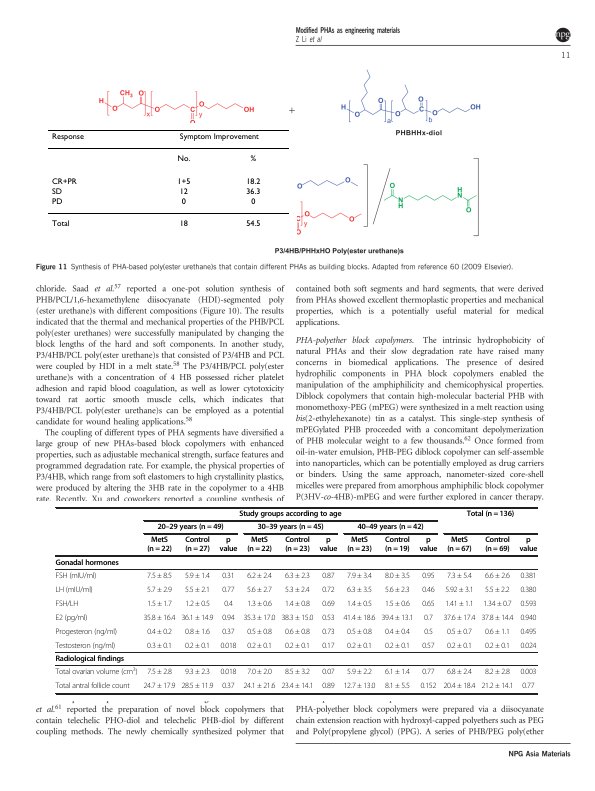borderless: (54, 506, 537, 693), (46, 128, 290, 237)
cell: (238, 510, 342, 519), (55, 666, 138, 677), (178, 133, 259, 142), (256, 523, 325, 533), (55, 682, 131, 691), (156, 523, 224, 533), (356, 523, 424, 533), (55, 558, 120, 568), (55, 627, 118, 637), (55, 655, 125, 664), (55, 641, 116, 651), (146, 536, 173, 555), (184, 536, 211, 555), (246, 536, 273, 555), (284, 536, 311, 555), (346, 536, 373, 555), (384, 536, 411, 555), (446, 536, 473, 555), (484, 536, 511, 555), (466, 510, 515, 519), (55, 571, 97, 581), (55, 585, 94, 595), (318, 536, 338, 555), (418, 536, 438, 555), (518, 536, 538, 555), (219, 536, 238, 555), (142, 613, 176, 623), (180, 613, 214, 623), (242, 613, 276, 623), (280, 613, 314, 623), (342, 613, 376, 623), (380, 613, 414, 623), (442, 613, 476, 623), (480, 613, 514, 623), (55, 613, 88, 623), (444, 599, 475, 609), (482, 599, 513, 609), (50, 133, 84, 142), (142, 682, 176, 691), (180, 682, 214, 691), (242, 682, 276, 691), (280, 682, 314, 691), (342, 682, 376, 691), (442, 682, 476, 691), (480, 682, 514, 691), (444, 585, 474, 595), (50, 177, 77, 187), (146, 571, 173, 581), (184, 571, 211, 581), (246, 571, 273, 581), (284, 571, 311, 581), (346, 571, 373, 581), (384, 571, 411, 581), (446, 571, 473, 581), (484, 571, 511, 581), (146, 585, 173, 595), (184, 585, 211, 595), (246, 585, 273, 595), (284, 585, 311, 595), (346, 585, 373, 595), (384, 585, 411, 595), (484, 585, 511, 595), (146, 599, 173, 609), (184, 599, 211, 609), (246, 599, 273, 609), (284, 599, 311, 609), (346, 599, 373, 609), (384, 599, 411, 609), (146, 627, 173, 637), (184, 627, 211, 637), (246, 627, 273, 637), (284, 627, 311, 637), (346, 627, 373, 637), (384, 627, 411, 637), (446, 627, 473, 637), (484, 627, 511, 637), (146, 641, 173, 651), (184, 641, 211, 651), (246, 641, 273, 651), (284, 641, 311, 651), (346, 641, 373, 651), (384, 641, 411, 651), (446, 641, 473, 651), (484, 641, 511, 651), (146, 668, 173, 677), (184, 668, 211, 677), (246, 668, 273, 677), (284, 668, 311, 677), (346, 668, 373, 677), (384, 668, 411, 677), (446, 668, 473, 677), (484, 668, 511, 677), (384, 682, 411, 691), (55, 599, 79, 609), (50, 220, 70, 229), (519, 571, 537, 581), (519, 585, 537, 595), (519, 599, 537, 609), (519, 613, 537, 623), (519, 627, 537, 637), (219, 641, 237, 651), (519, 641, 537, 651), (219, 668, 237, 677), (519, 668, 537, 677), (419, 682, 437, 691), (245, 177, 261, 187), (245, 187, 261, 197), (176, 177, 191, 187), (221, 571, 236, 581), (321, 571, 336, 581), (321, 599, 336, 609), (421, 599, 436, 609), (321, 613, 336, 623), (221, 627, 236, 637), (321, 627, 336, 637), (321, 641, 336, 651), (245, 220, 261, 229), (421, 571, 435, 581), (221, 585, 235, 595), (321, 585, 335, 595), (421, 585, 435, 595), (221, 613, 235, 623), (421, 641, 435, 651), (176, 155, 191, 164), (321, 668, 336, 677), (321, 682, 336, 691), (421, 668, 435, 677), (221, 682, 235, 691), (521, 682, 535, 691), (50, 187, 62, 197), (50, 198, 63, 207), (223, 599, 234, 609), (423, 613, 434, 623), (423, 627, 434, 637), (178, 187, 188, 197), (178, 220, 188, 229), (249, 155, 257, 164), (180, 198, 186, 207), (250, 198, 256, 207)
